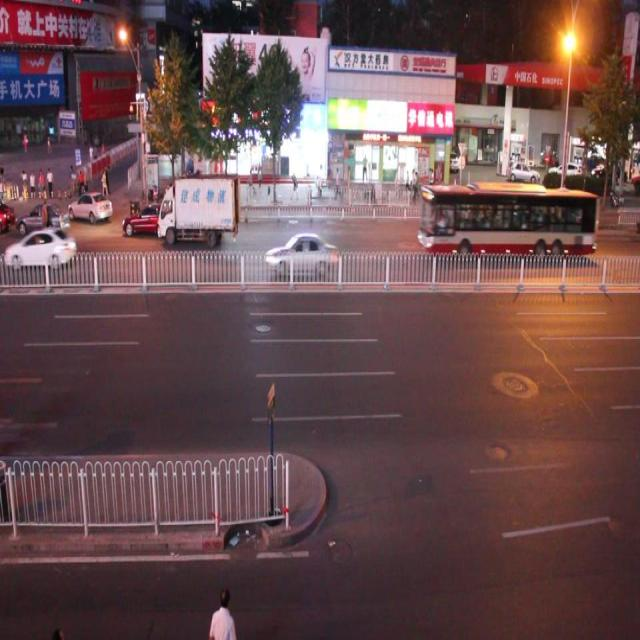bus: (153, 184, 240, 259)
car: (264, 232, 338, 278), (1, 225, 76, 270), (120, 210, 182, 251), (14, 201, 71, 239), (68, 190, 114, 226)
van: (416, 185, 594, 264)
